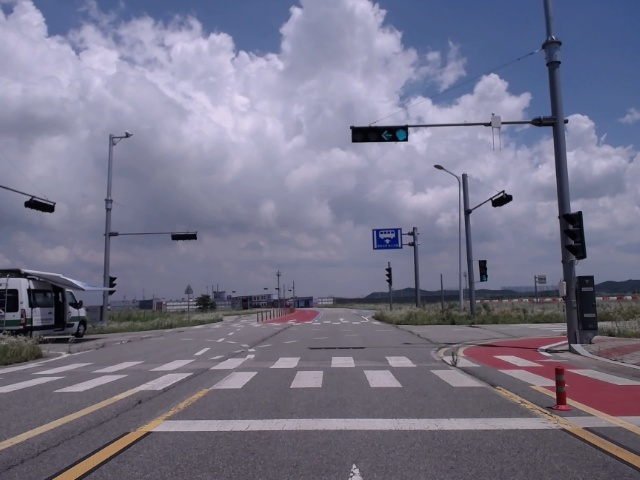all_green_4: (353, 128, 409, 143)
